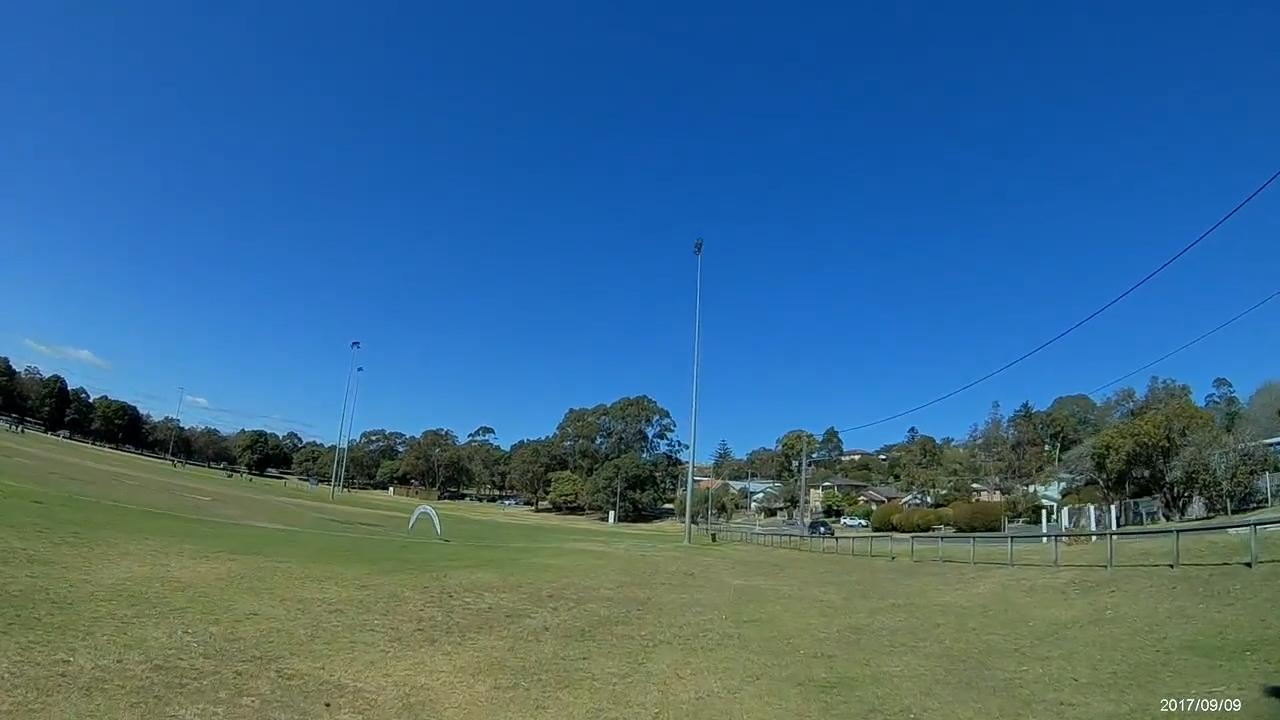gate: (407, 505, 440, 540)
